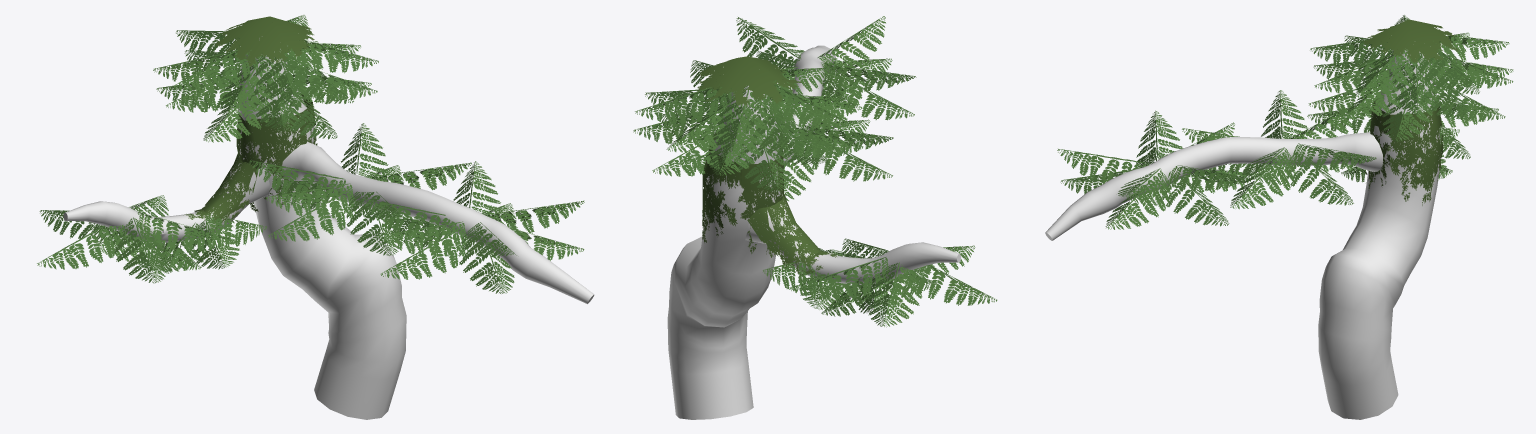
The model's file is HouseTree.fbx.
3 views of the same model, side by side, from view 1: azimuth 30°, elevation 25°; view 2: azimuth 150°, elevation 25°; view 3: azimuth 270°, elevation 25° (orthographic). The views are drawn at different scales.
Visible parts, largest first — view 1: Housetree, Treebranch2, Treebranch1, LeafAlpha3, LeafAlpha2, LeafAlpha2_4, LeafAlpha_3_7, LeafAlpha_3_6, LeafAlpha_4_7, LeafAlpha_0_10, LeafAlpha_4_10, LeafAlpha_4_5 (+31 smaller); view 2: Housetree, Treebranch1, LeafAlpha3, LeafAlpha2_4, LeafAlpha_0_7, LeafAlpha2_3, LeafAlpha_0_6, LeafAlpha_1_7, Treebranch2, LeafAlpha_1_6, LeafAlpha_2_8, LeafAlpha2_2 (+32 smaller); view 3: Housetree, Treebranch2, LeafAlpha2_3, LeafAlpha3, LeafAlpha_2_6, LeafAlpha_2_5, LeafAlpha_1_11, LeafAlpha_1_9, LeafAlpha_2_11, LeafAlpha_2_9, LeafAlpha_4_8, LeafAlpha_3_8 (+23 smaller).
Boxes of the visible parts, box(x1,y1,x2,y2) form: Housetree: box(239, 36, 406, 419); Treebranch2: box(281, 142, 594, 303); Treebranch1: box(63, 156, 269, 242); LeafAlpha3: box(215, 16, 314, 66); LeafAlpha2: box(251, 99, 317, 206); LeafAlpha2_4: box(183, 153, 257, 232); LeafAlpha_3_7: box(111, 217, 167, 283); LeafAlpha_3_6: box(253, 49, 307, 106); LeafAlpha_4_7: box(37, 225, 126, 269); LeafAlpha_0_10: box(249, 160, 345, 204); LeafAlpha_4_10: box(266, 183, 353, 219); LeafAlpha_4_5: box(220, 55, 280, 117); Housetree: box(667, 85, 780, 419); Treebranch1: box(745, 194, 961, 284); LeafAlpha3: box(696, 56, 801, 105); LeafAlpha2_4: box(747, 194, 838, 276); LeafAlpha_0_7: box(867, 262, 922, 327); LeafAlpha2_3: box(702, 141, 741, 242); LeafAlpha_0_6: box(716, 86, 770, 152); LeafAlpha_1_7: box(789, 257, 888, 300); Treebranch2: box(778, 45, 835, 164); LeafAlpha_1_6: box(635, 87, 734, 123); LeafAlpha_2_8: box(736, 17, 804, 71); LeafAlpha2_2: box(739, 148, 783, 254); Housetree: box(1318, 50, 1440, 419); Treebranch2: box(1045, 132, 1384, 240); LeafAlpha2_3: box(1387, 107, 1443, 205); LeafAlpha3: box(1363, 19, 1458, 63); LeafAlpha_2_6: box(1355, 49, 1419, 98); LeafAlpha_2_5: box(1392, 55, 1439, 114); LeafAlpha_1_11: box(1285, 150, 1353, 205); LeafAlpha_1_9: box(1161, 174, 1229, 226); LeafAlpha_2_11: box(1230, 153, 1294, 209); LeafAlpha_2_9: box(1105, 181, 1169, 229); LeafAlpha_4_8: box(1136, 110, 1183, 167); LeafAlpha_3_8: box(1057, 149, 1148, 183).
Bounding box in the file's own units: 1786 × 1564 × 1878.
